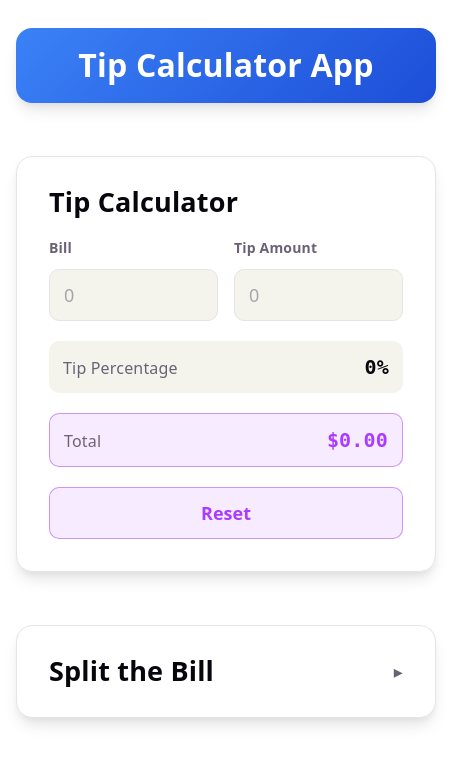
Test case: App › shows validation messages for invalid people counts
Click the heading "Split the Bill" at (132,671), box [49,652,214,689]
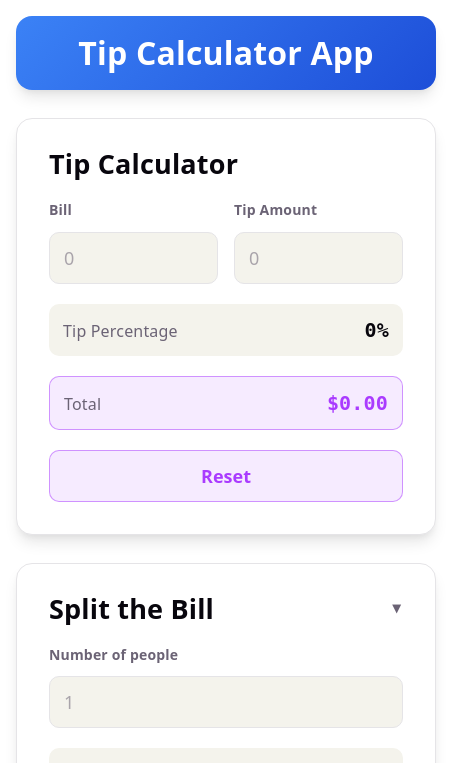
Type "0" into the field labelled "Number of people" at (226,702), box [49,676,403,728]
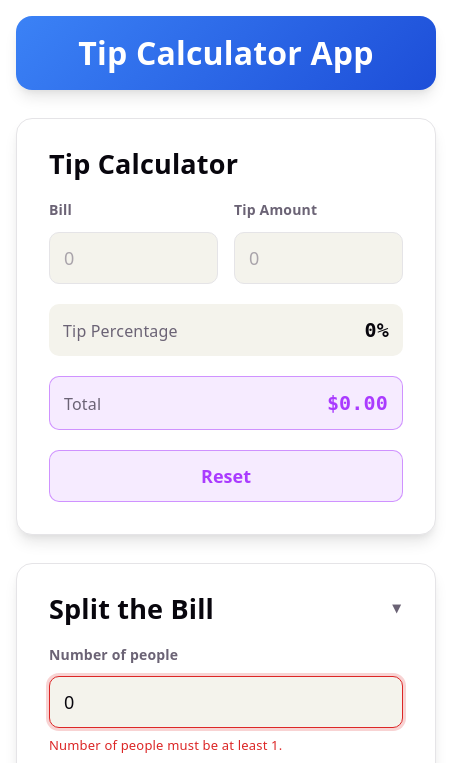
Now the text "Number of people must be at least 1." is shown, box [49,736,282,754]
Replace the text in the field labelled "Number of people" with "101" at (226,702), box [49,676,403,728]
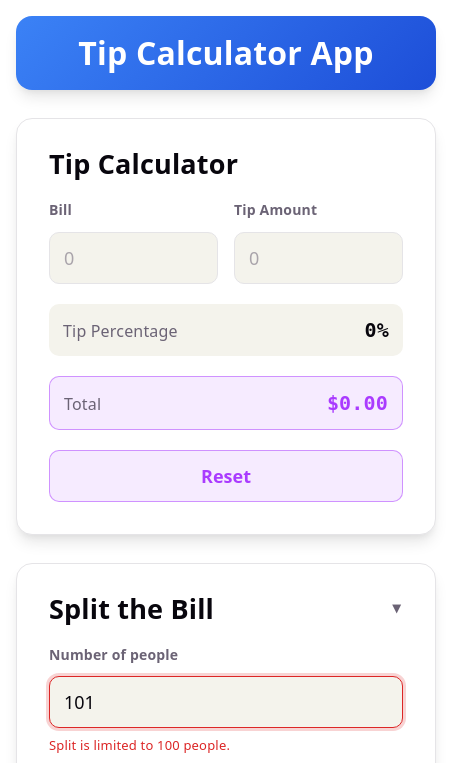
Now the text "Split is limited to 100 people." is shown, box [49,736,230,754]
Replace the text in the field labelled "Number of people" with "2.5" at (226,702), box [49,676,403,728]
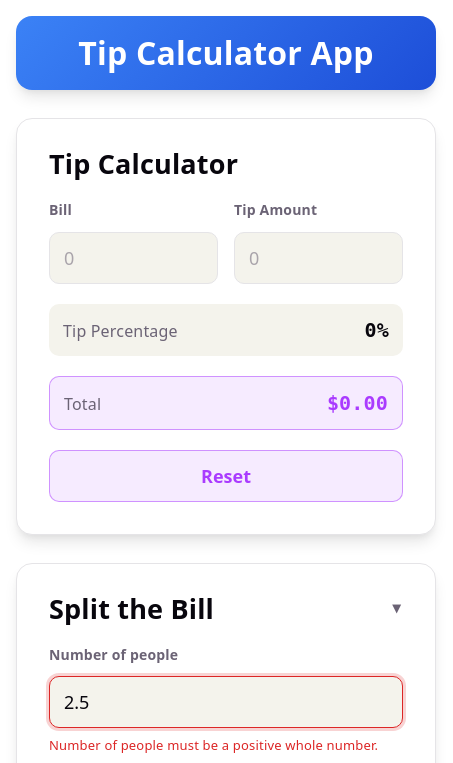
Now the text "Number of people must be a positive whole number." is shown, box [49,736,403,754]
